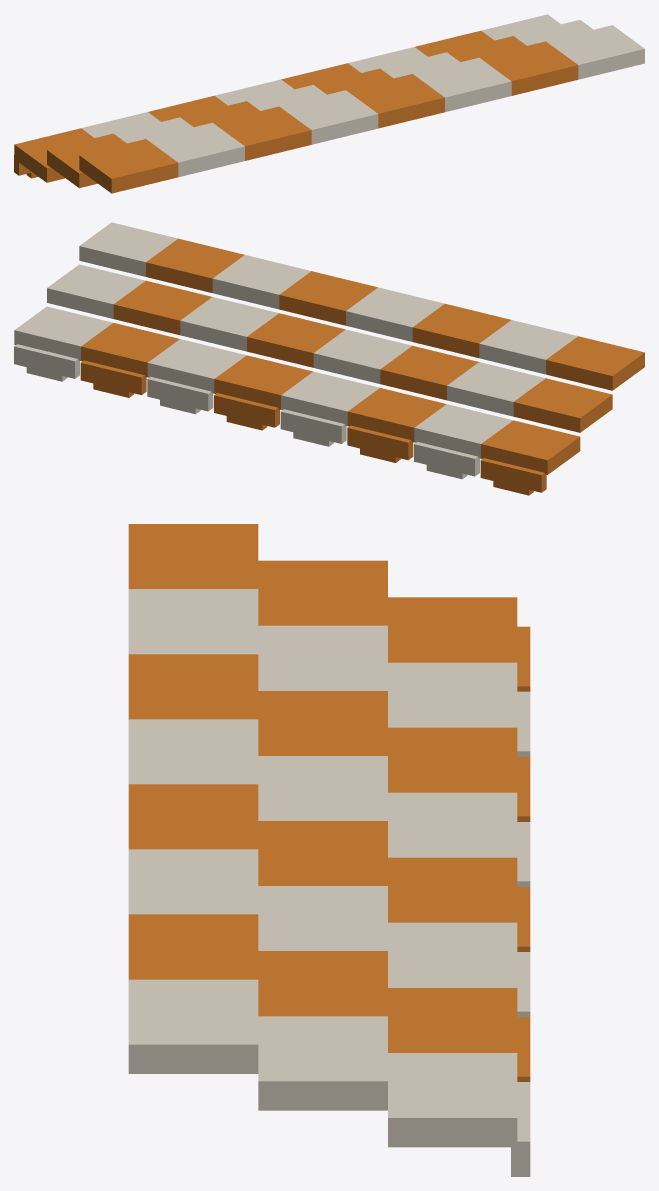
File: cp-shop-awning-orange.glb
The picture shows the model from 3 angles, top to bottom: view 1: azimuth 30°, elevation 25°; view 2: azimuth 150°, elevation 25°; view 3: azimuth 270°, elevation 25°; orthographic projection. The views are drawn at different scales.
Visible parts, largest first — view 1: box-prop; view 2: box-prop; view 3: box-prop.
Part boxes in pixels (bbox=[...]): box-prop: bbox=[14, 14, 644, 193]; box-prop: bbox=[14, 222, 644, 495]; box-prop: bbox=[128, 524, 530, 1176].
Bounding box in the file's own units: 7.6 × 1 × 2.48.
